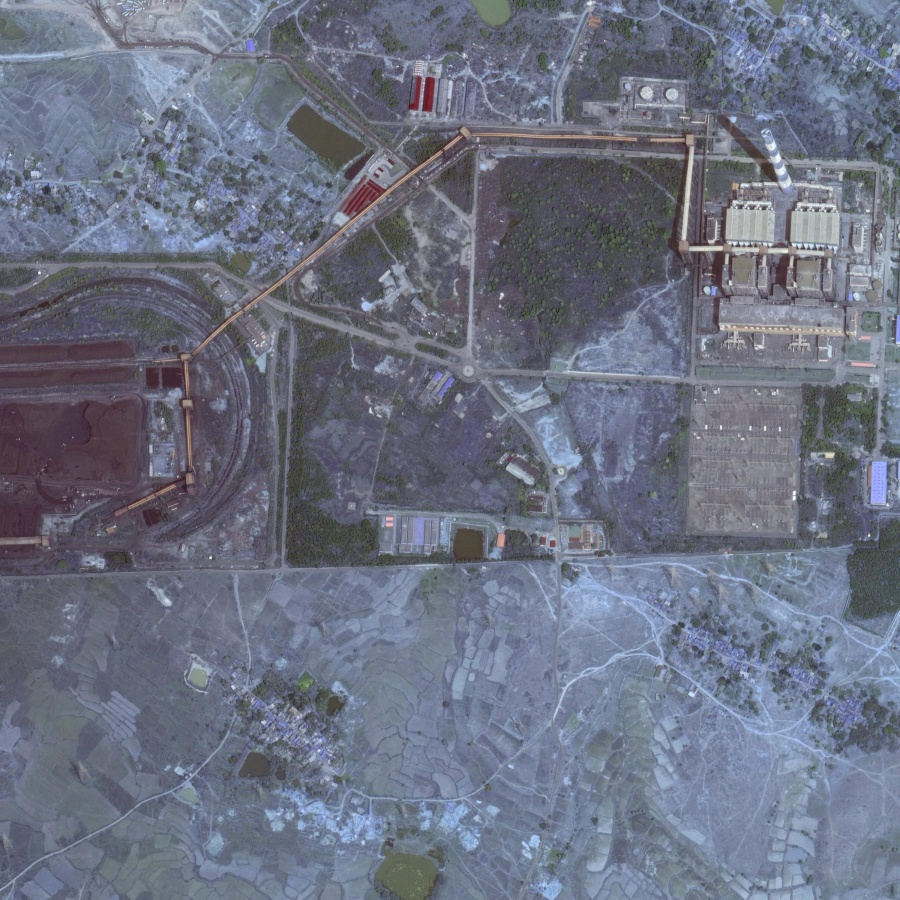PowerPlant: (692, 89, 846, 222)
